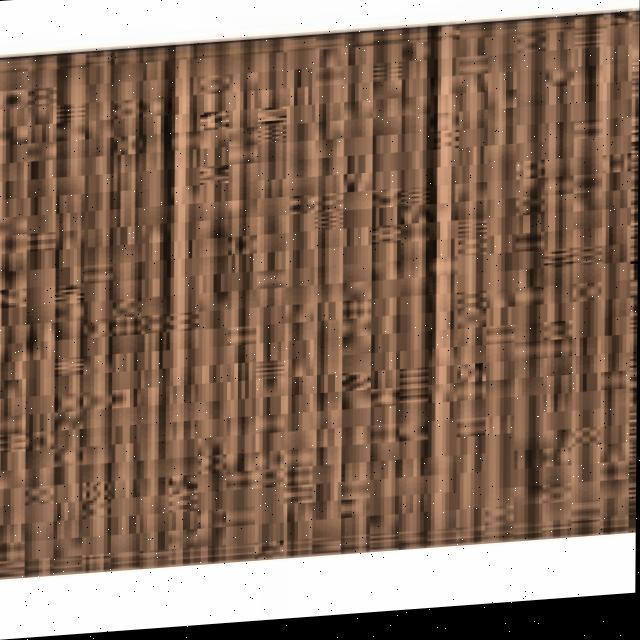cardboard: (0, 7, 640, 580)
